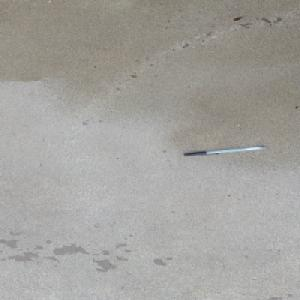Pen: (182, 145, 267, 157)
